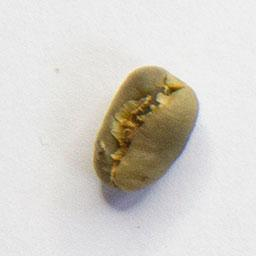peaberry: (88, 63, 204, 198)
